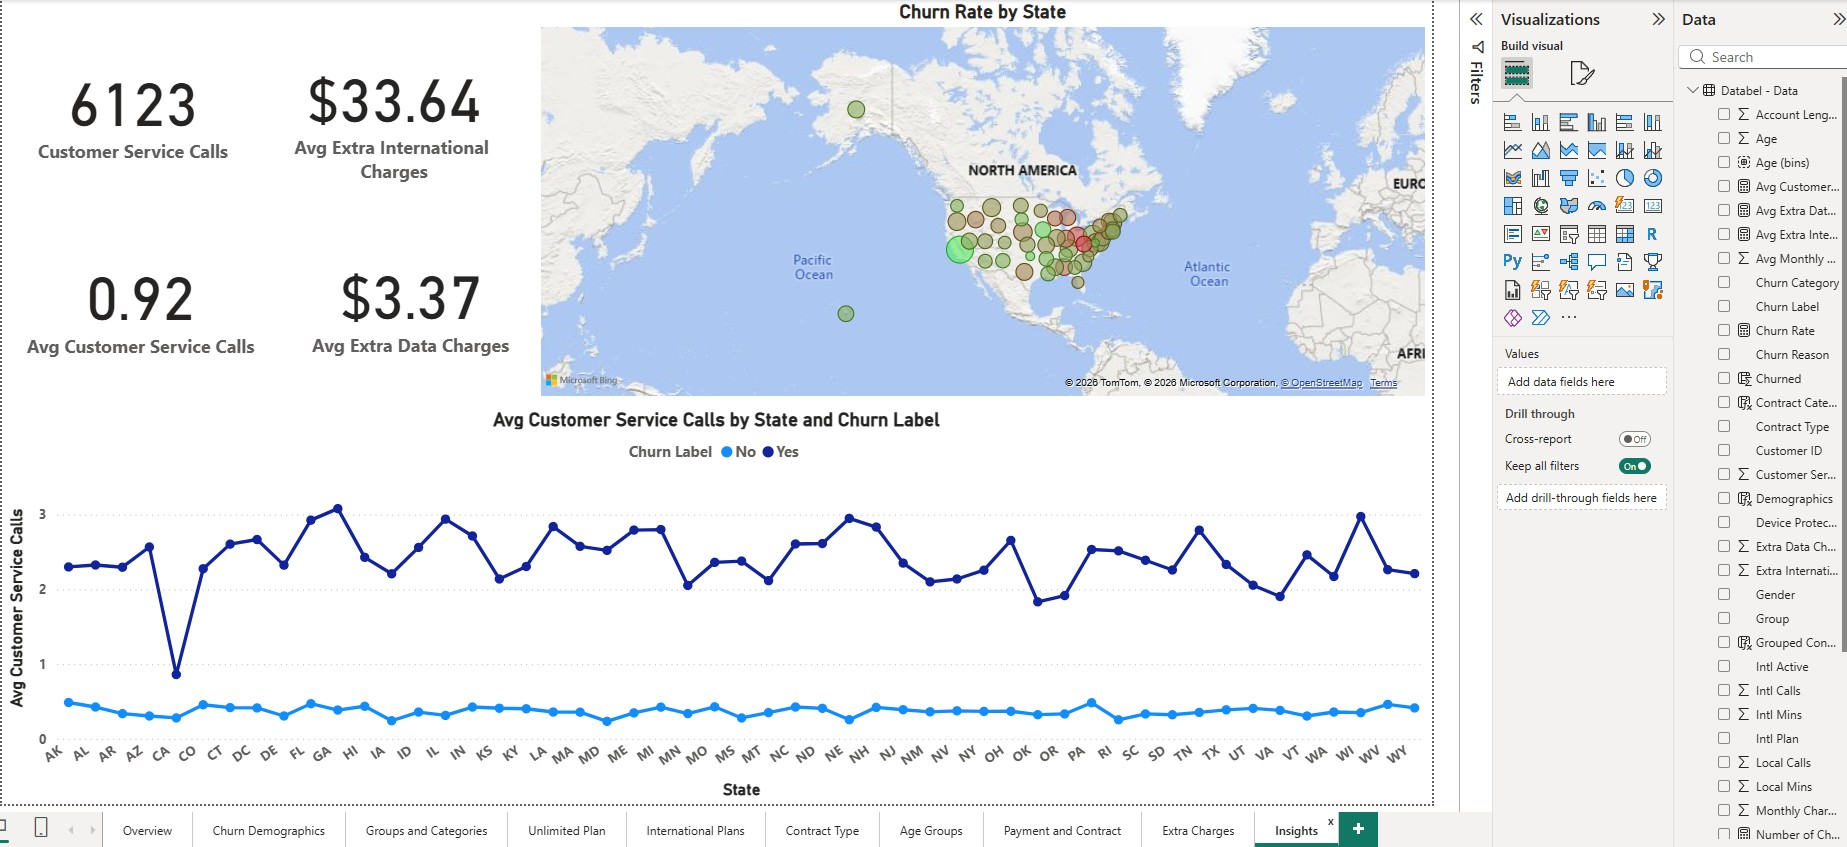

What the dashboard file says about the page in this screenshot:
{"tool":"powerbi","page":{"name":"Insights","canvas":[1280,720],"ordinal":9},"visuals":[{"type":"card","fields":{"Values":["Sum(Databel - Data.Customer Service Calls)"]},"box":[12.5,6.3,209.6,181.8],"z":0},{"type":"card","fields":{"Values":["Databel - Data.Avg Customer Service Calls"]},"box":[12.5,187.2,223,168.4],"z":1000},{"type":"card","fields":{"Values":["Databel - Data.Avg Extra International Charges"]},"box":[235.5,0,231,187.2],"z":2000},{"type":"card","fields":{"Values":["Databel - Data.Avg Extra Data Charges"]},"box":[254.3,165.7,223,209.6],"z":3000},{"type":"lineChart","fields":{"Category":["Databel - Data.State"],"Y":["Databel - Data.Avg Customer Service Calls"],"Series":["Databel - Data.Churn Label"]},"box":[0,365.4,1279.7,354.6],"z":4000},{"type":"map","fields":{"Category":["Databel - Data.State"],"Size":["Databel - Data.Churn Rate"]},"box":[477.3,0,802.4,360],"z":5000}]}

Visuals, with their boxes on the page's 1280x720 design canvas (x1, y1, x2, y2). These are canvas units, not pixel positions in the 1847x847 screenshot, which may show the page scaled, cropped or inside an application window:
card - Sum(Databel - Data.Customer Service Calls): BBox(12, 6, 222, 188)
card - Databel - Data.Avg Customer Service Calls: BBox(12, 187, 236, 356)
card - Databel - Data.Avg Extra International Charges: BBox(236, 0, 466, 187)
card - Databel - Data.Avg Extra Data Charges: BBox(254, 166, 477, 375)
lineChart - Databel - Data.State x Databel - Data.Avg Customer Service Calls: BBox(0, 365, 1280, 720)
map - Databel - Data.State x Databel - Data.Churn Rate: BBox(477, 0, 1280, 360)
